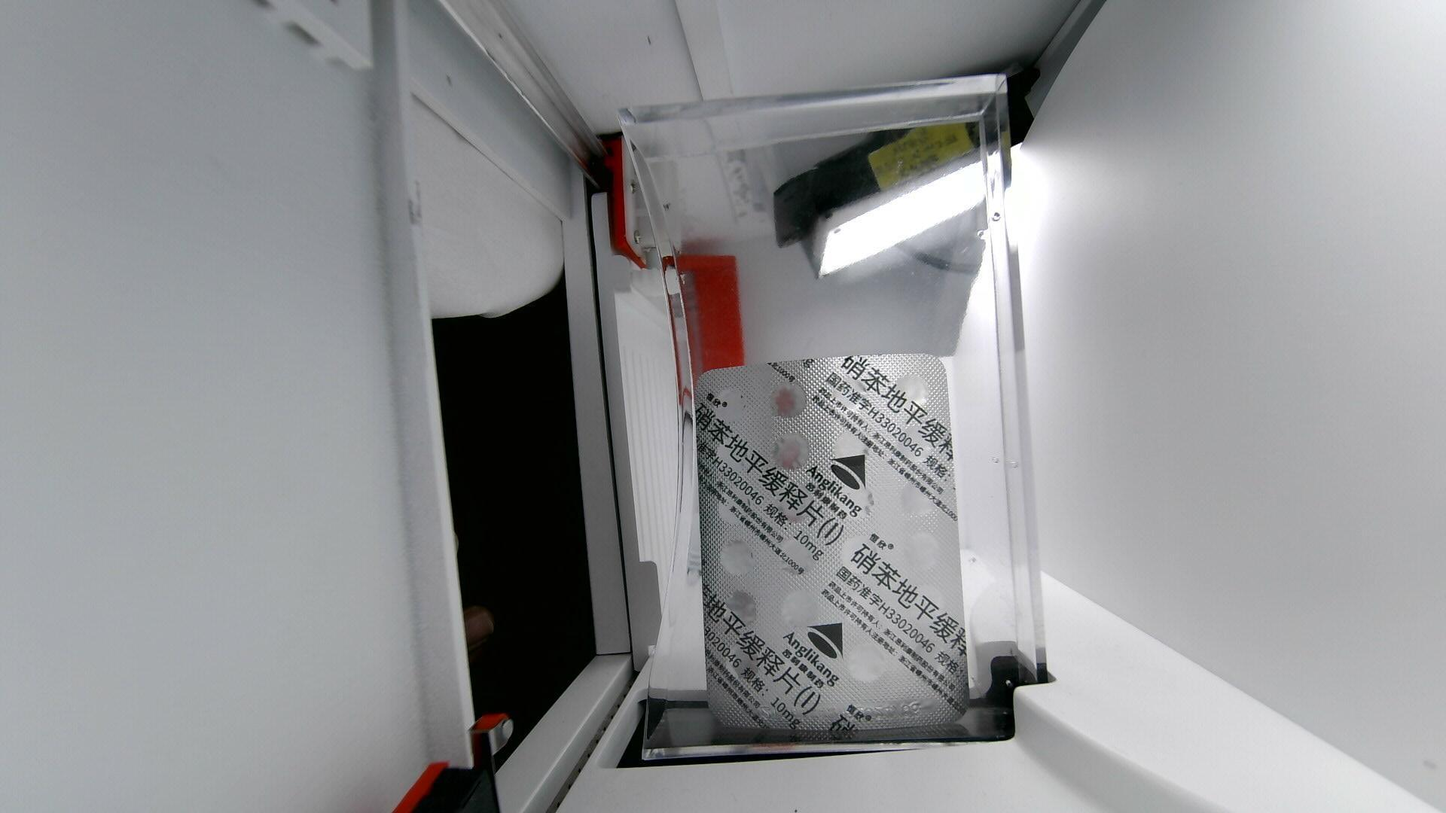Pill Back: (895, 586, 946, 639), (782, 643, 834, 690), (715, 635, 764, 682), (820, 373, 868, 419), (881, 371, 928, 416), (843, 587, 888, 634), (898, 477, 940, 526), (895, 427, 939, 473), (829, 422, 871, 470), (839, 534, 882, 580), (834, 482, 877, 527), (894, 531, 935, 578), (712, 434, 758, 475), (703, 386, 752, 424), (718, 592, 757, 638), (773, 539, 819, 578), (770, 431, 810, 472), (847, 641, 888, 681), (909, 644, 950, 682), (776, 487, 819, 523), (780, 592, 819, 630), (716, 484, 752, 522), (773, 382, 812, 415), (721, 542, 749, 578)
